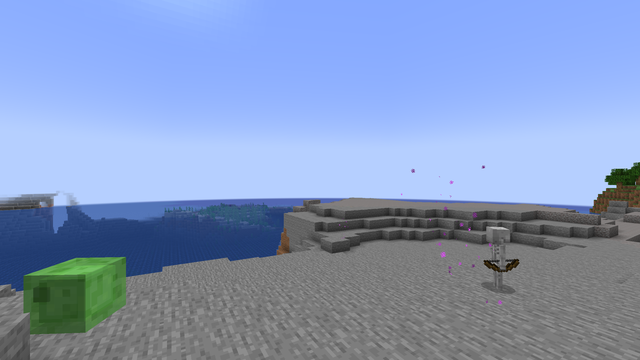slimes: (27, 252, 118, 336)
squelettes: (483, 226, 511, 292)
